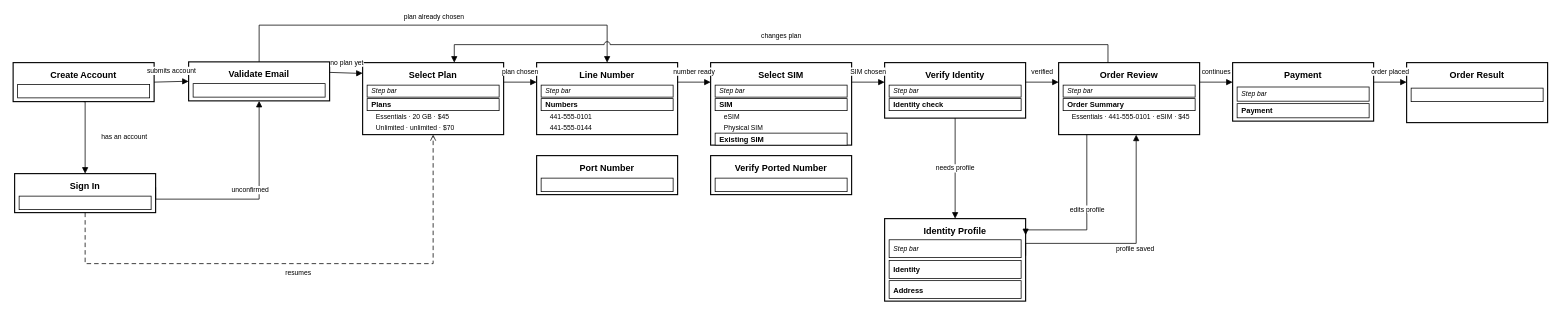
This 1562x315 diagram has some shape labels left out. Each missing label, with the centre of its shape:
Account: pixel 83 91
Code: pixel 258 90
Credentials: pixel 84 202
Portability: pixel 606 184
Result: pixel 1476 94
SMS code: pixel 780 184
